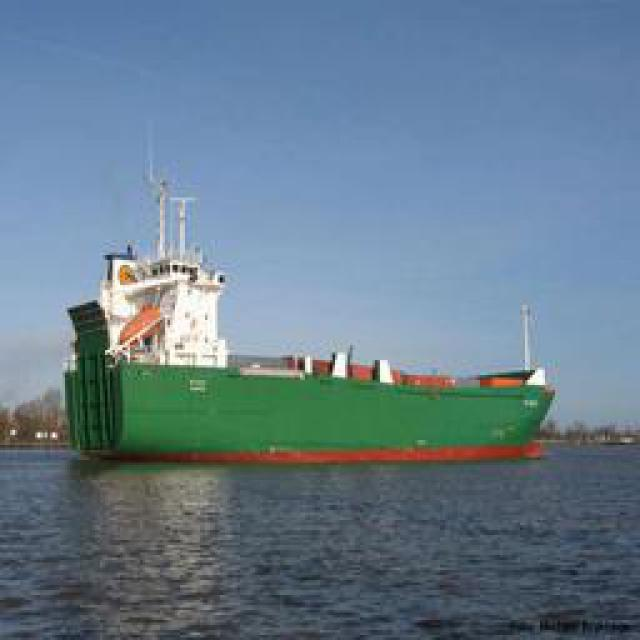Ship: (59, 144, 554, 464)
